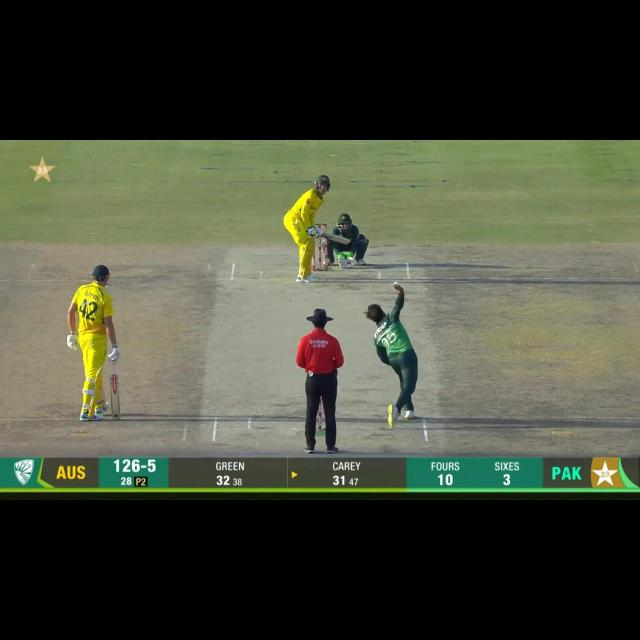bat: (110, 374, 122, 420), (320, 229, 350, 245)
toe: (109, 412, 120, 421), (343, 238, 351, 245)
